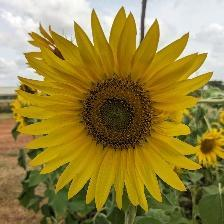sunflower: (29, 28, 199, 190)
